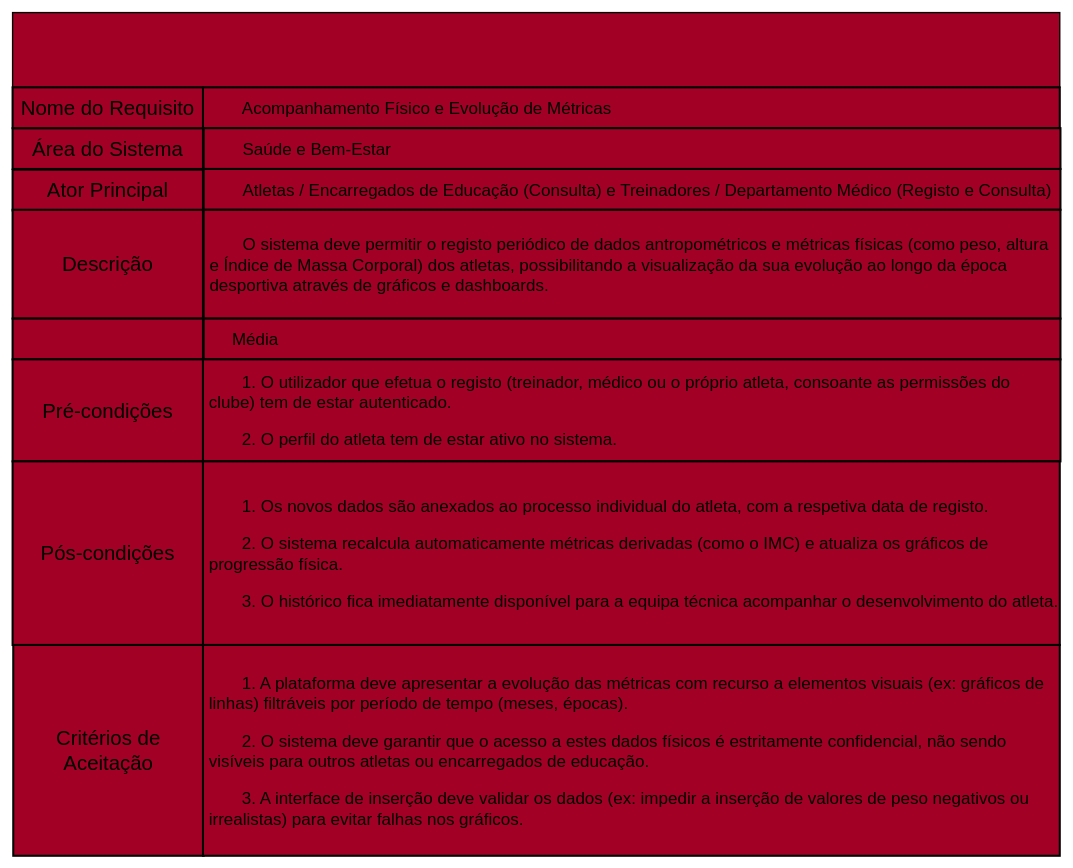
The diagram is 1073 pixels wide and 868 high, and some of its shapes have lost their labels. The shapes that lost their labels are listed below. From the top down, each one's centre as x and y in pixels, then its label:
point (536, 50): RF-13
point (107, 338): Prioridade
